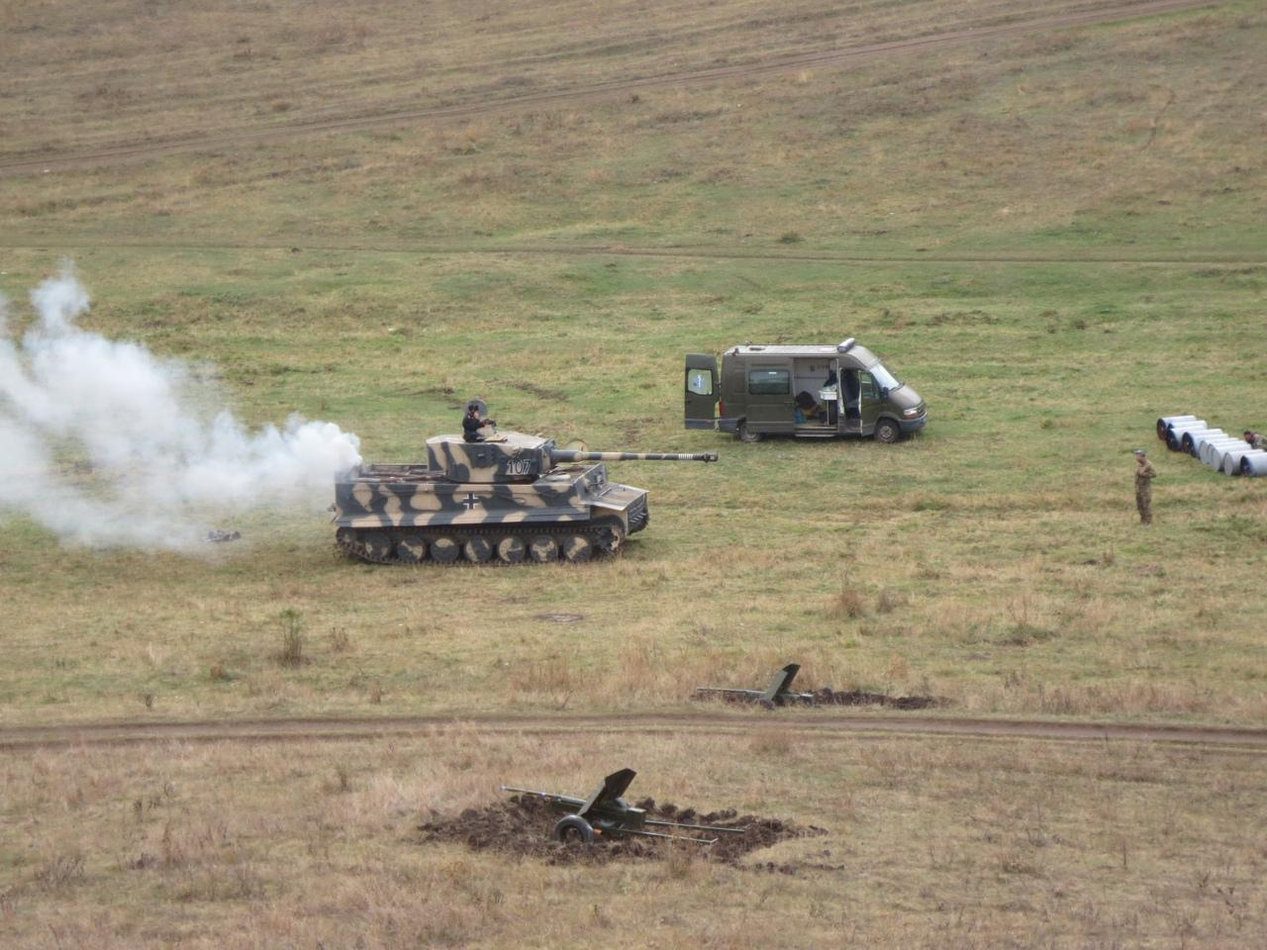armored_car: (679, 341, 931, 454)
person: (1127, 446, 1160, 529), (1240, 429, 1267, 453)
tank: (330, 411, 655, 572)
